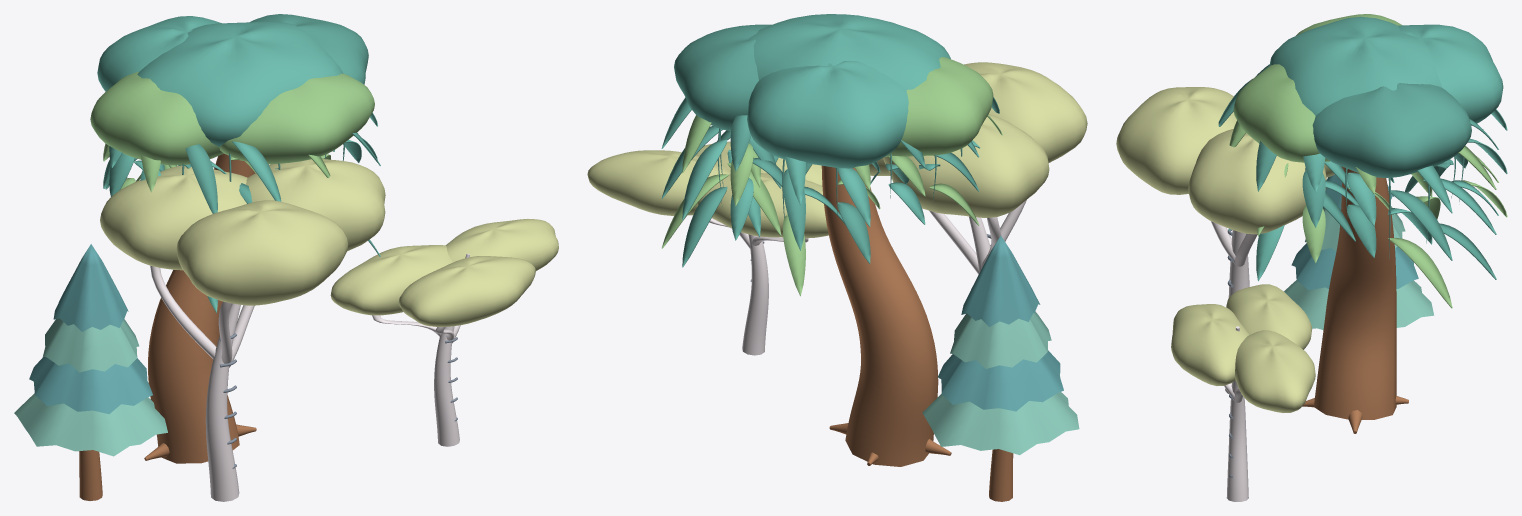
Rendered from owned-tree-components.glb.
3 views of the same model, side by side, from view 1: azimuth 30°, elevation 25°; view 2: azimuth 150°, elevation 25°; view 3: azimuth 270°, elevation 25° (orthographic). The views are drawn at different scales.
Parts seen in each view (by area): view 1: role-l14-2234, role-l15-2598, role-l14-2743, role-l15-2597, role-l14-2238, role-l14-2235, role-l29-2598, role-l15-2596, role-l28-2693, role-l29-2597, role-l28-2694, role-l29-2596 (+12 smaller); view 2: role-l14-2743, role-l14-2237, role-l14-2234, role-l15-2597, role-l14-2235, role-l14-2236, role-l28-2693, role-l15-2598, role-l28-2694, role-l29-2596, role-l28-2695, role-l28-2696 (+22 smaller); view 3: role-l14-2743, role-l14-2236, role-l14-2234, role-l15-2596, role-l15-2598, role-l14-2238, role-l29-2596, role-l14-2237, role-l29-2598, role-l29-2597, role-l28-2693, role-l28-2694 (+16 smaller).
Part boxes in pixels (bbox=[...]): role-l14-2234: bbox=[137, 21, 343, 146]; role-l15-2598: bbox=[176, 200, 348, 305]; role-l14-2743: bbox=[148, 153, 255, 463]; role-l15-2597: bbox=[100, 165, 247, 270]; role-l14-2238: bbox=[219, 73, 374, 164]; role-l14-2235: bbox=[90, 72, 223, 165]; role-l29-2598: bbox=[398, 256, 535, 326]; role-l15-2596: bbox=[246, 159, 385, 250]; role-l28-2693: bbox=[14, 393, 167, 456]; role-l29-2597: bbox=[330, 245, 452, 315]; role-l28-2694: bbox=[29, 356, 152, 414]; role-l29-2596: bbox=[446, 219, 558, 270]; role-l14-2743: bbox=[821, 165, 938, 466]; role-l14-2237: bbox=[747, 61, 908, 168]; role-l14-2234: bbox=[748, 14, 950, 89]; role-l15-2597: bbox=[883, 114, 1049, 217]; role-l14-2235: bbox=[885, 57, 993, 156]; role-l14-2236: bbox=[674, 24, 771, 130]; role-l28-2693: bbox=[922, 392, 1079, 455]; role-l15-2598: bbox=[964, 62, 1087, 162]; role-l28-2694: bbox=[938, 350, 1063, 411]; role-l29-2596: bbox=[587, 150, 730, 215]; role-l28-2695: bbox=[950, 311, 1051, 368]; role-l28-2696: bbox=[961, 235, 1040, 326]; role-l14-2743: bbox=[1314, 166, 1396, 419]; role-l14-2236: bbox=[1312, 83, 1471, 177]; role-l14-2234: bbox=[1269, 16, 1441, 115]; role-l15-2596: bbox=[1188, 129, 1326, 234]; role-l15-2598: bbox=[1116, 87, 1236, 194]; role-l14-2238: bbox=[1233, 64, 1330, 162]; role-l29-2596: bbox=[1235, 330, 1315, 412]; role-l14-2237: bbox=[1398, 24, 1503, 125]; role-l29-2598: bbox=[1171, 304, 1249, 385]; role-l29-2597: bbox=[1226, 284, 1312, 349]; role-l28-2693: bbox=[1284, 280, 1434, 330]; role-l28-2694: bbox=[1291, 243, 1418, 290].
Bounding box in the file's own units: 4.59 × 3.72 × 3.19.
